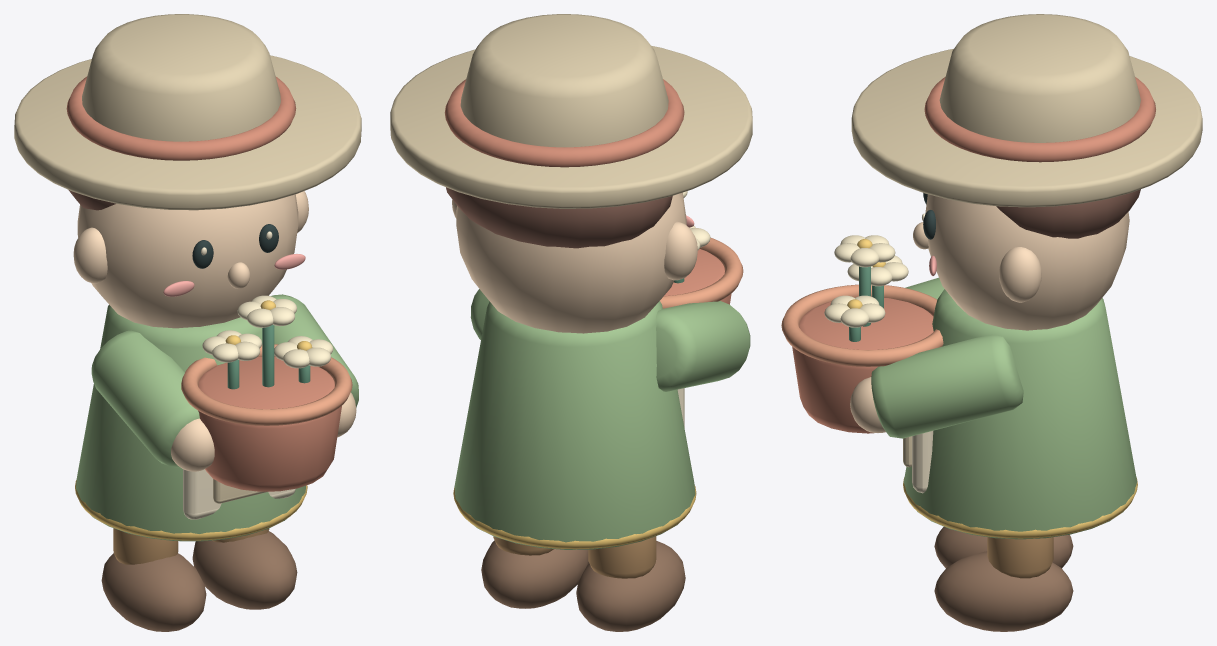
Rendered from npc_gardener.glb.
3 renders of one model, left to right at view 1: azimuth 30°, elevation 25°; view 2: azimuth 150°, elevation 25°; view 3: azimuth 270°, elevation 25°, orthographic. The views are drawn at different scales.
Visible parts, largest first — view 1: npc_gardener / material batches; view 2: npc_gardener / material batches; view 3: npc_gardener / material batches.
Part boxes in pixels (box(x1,y1,x2,y2)): npc_gardener / material batches: box(14, 14, 361, 631); npc_gardener / material batches: box(390, 14, 752, 631); npc_gardener / material batches: box(781, 14, 1202, 631).
Bounding box in the file's own units: 1.06 × 1.86 × 1.27.
